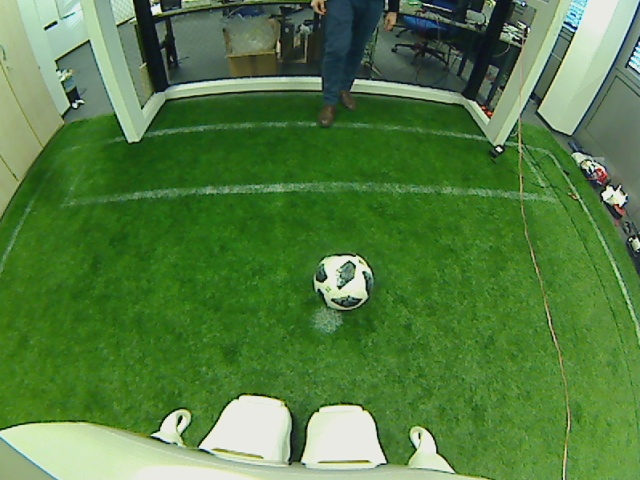ball: (310, 251, 376, 312)
